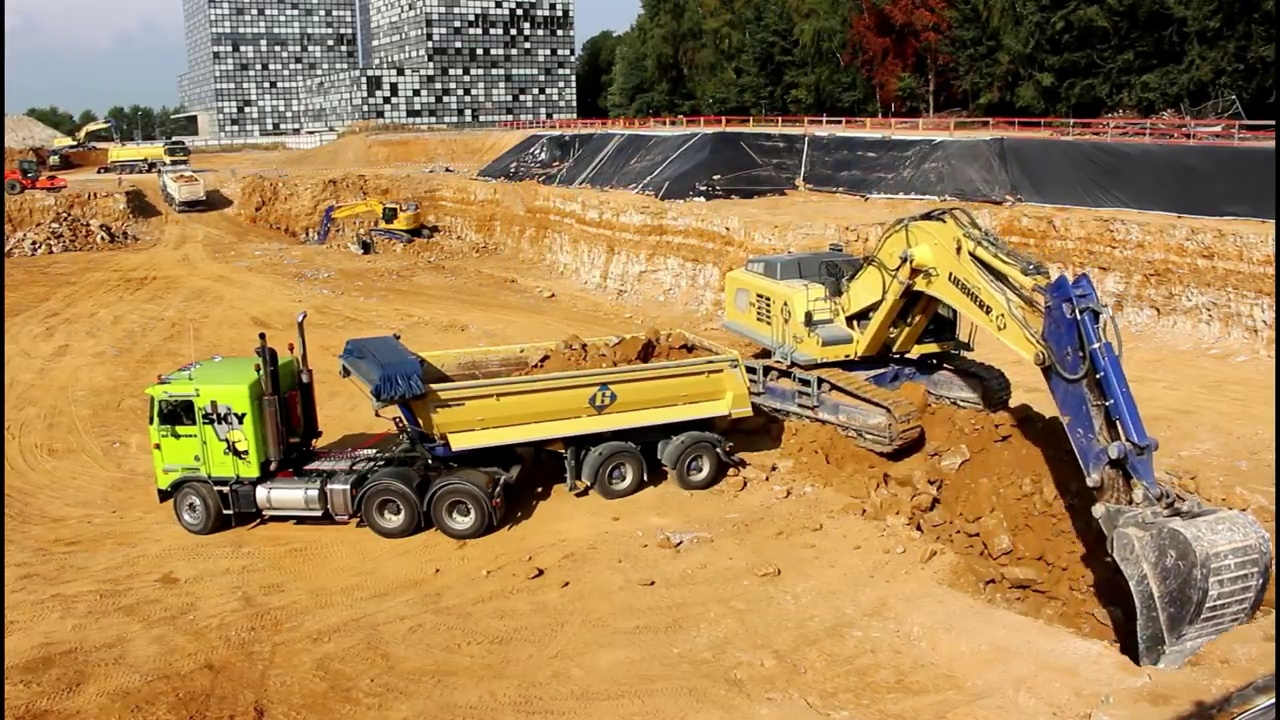compactor: (5, 158, 71, 198)
excavator: (711, 200, 1276, 676), (305, 193, 437, 258), (47, 113, 125, 158)
truck: (140, 309, 759, 545), (105, 136, 195, 175), (157, 164, 212, 216)
